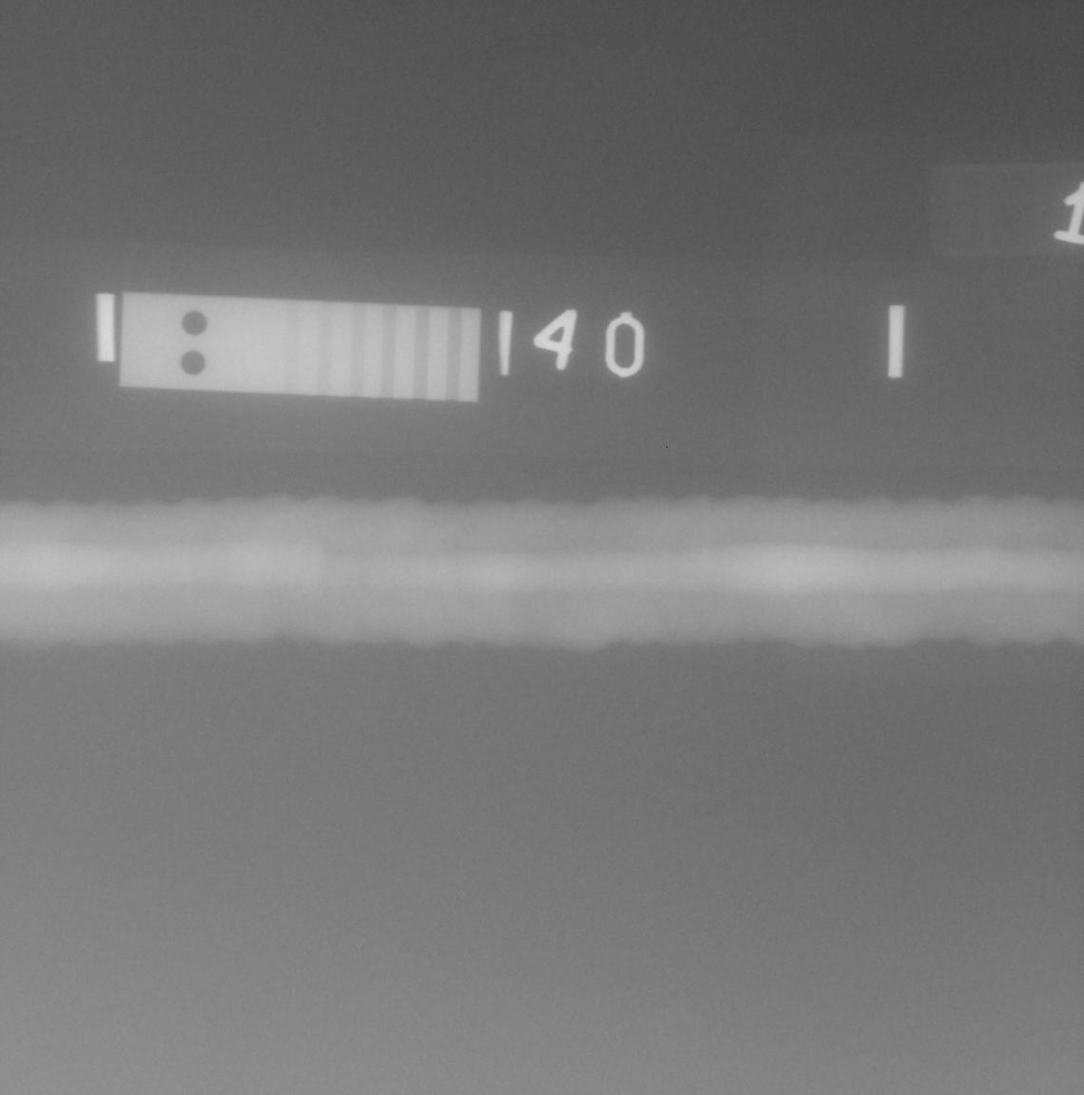Reference Standard 2: (119, 292, 479, 402)
